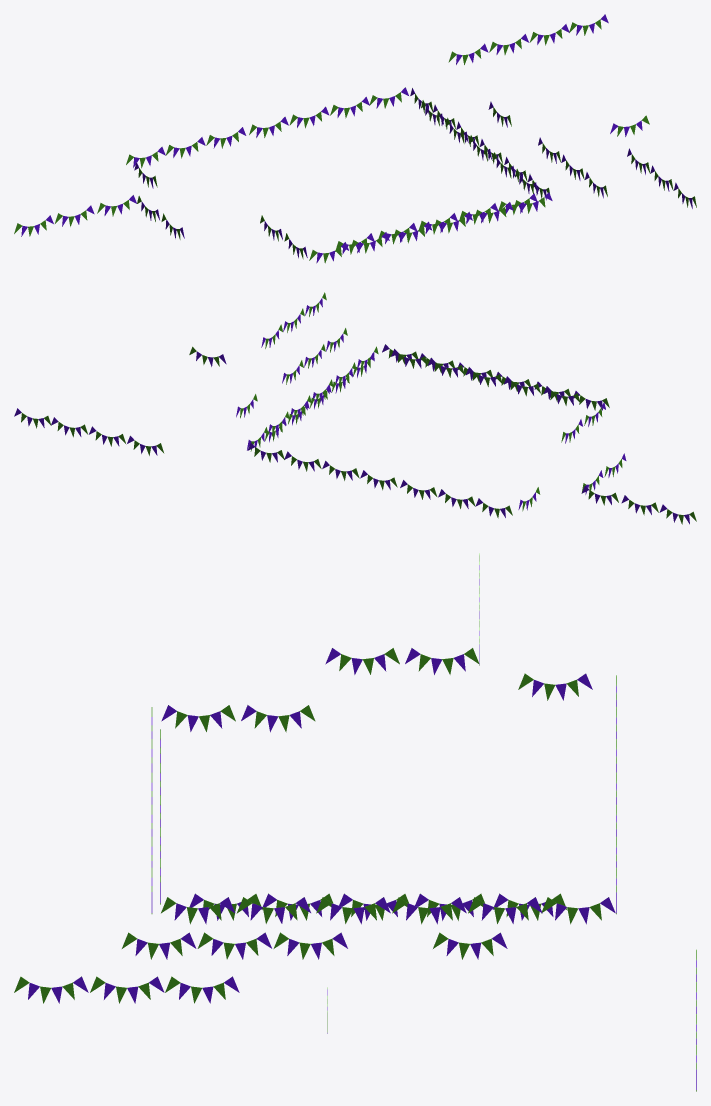
Rendered from Banderillas.fbx.
3 views of the same model, one above another, from view 1: azimuth 30°, elevation 25°; view 2: azimuth 150°, elevation 25°; view 3: azimuth 270°, elevation 25° (orthographic). The views are drawn at different scales.
Size of the model in its own units: 5365 by 133 by 2962.
